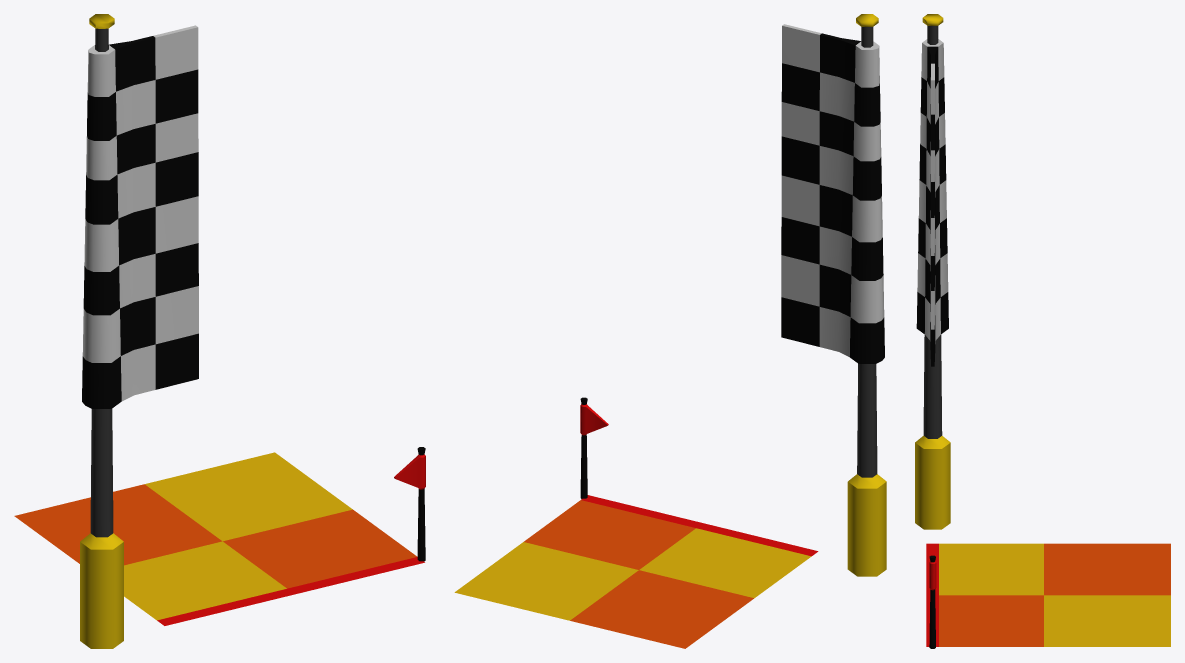
Rendered from Base_FinishFlagL.fbx.
The picture shows the model from 3 angles, left to right: view 1: azimuth 30°, elevation 25°; view 2: azimuth 150°, elevation 25°; view 3: azimuth 270°, elevation 25°; orthographic projection. The views are drawn at different scales.
Parts seen in each view (by area): view 1: Base_FinishFlagL; view 2: Base_FinishFlagL; view 3: Base_FinishFlagL.
Part boxes in pixels (<box>): Base_FinishFlagL: <box>14,14,425,648</box>; Base_FinishFlagL: <box>454,14,886,648</box>; Base_FinishFlagL: <box>915,14,1170,648</box>.
Bounding box in the file's own units: 2604 × 4560 × 2093.
